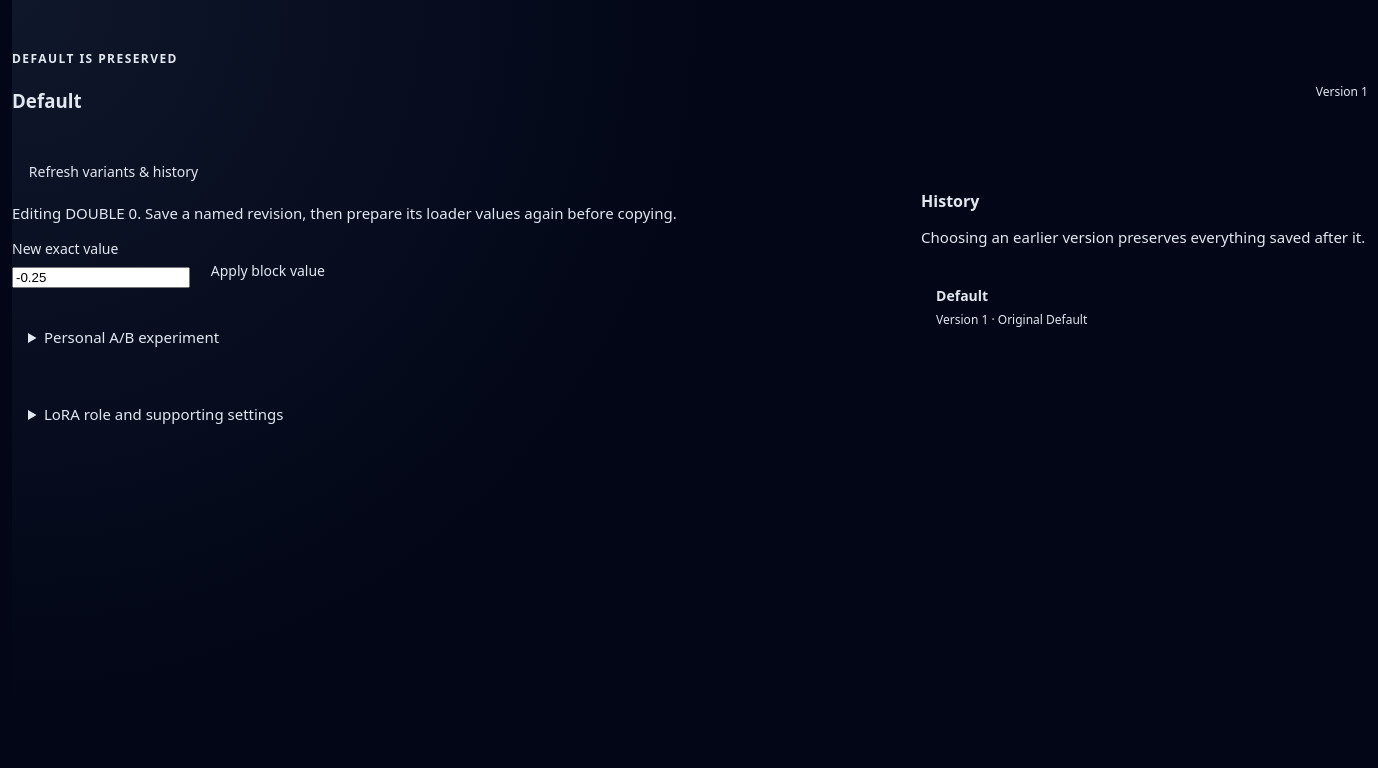
Scenario: version editor keyboard focus › also retains focus when equivalent numeric text does not remount the editor
Replace the text in the field labelled "New exact value" with "-0.2500": (101, 278) x1=12 y1=267 x2=190 y2=288
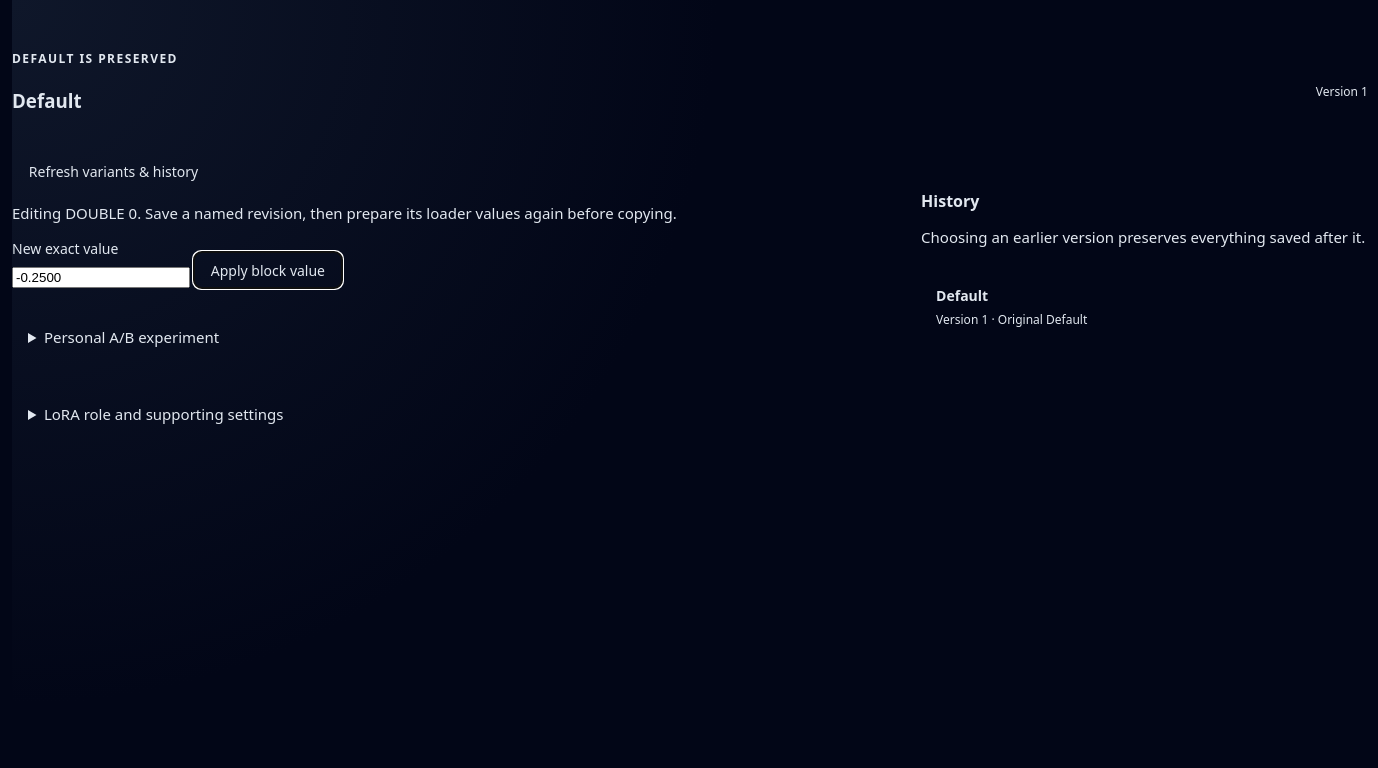
Click the button "Apply block value": (268, 270) x1=194 y1=252 x2=342 y2=288
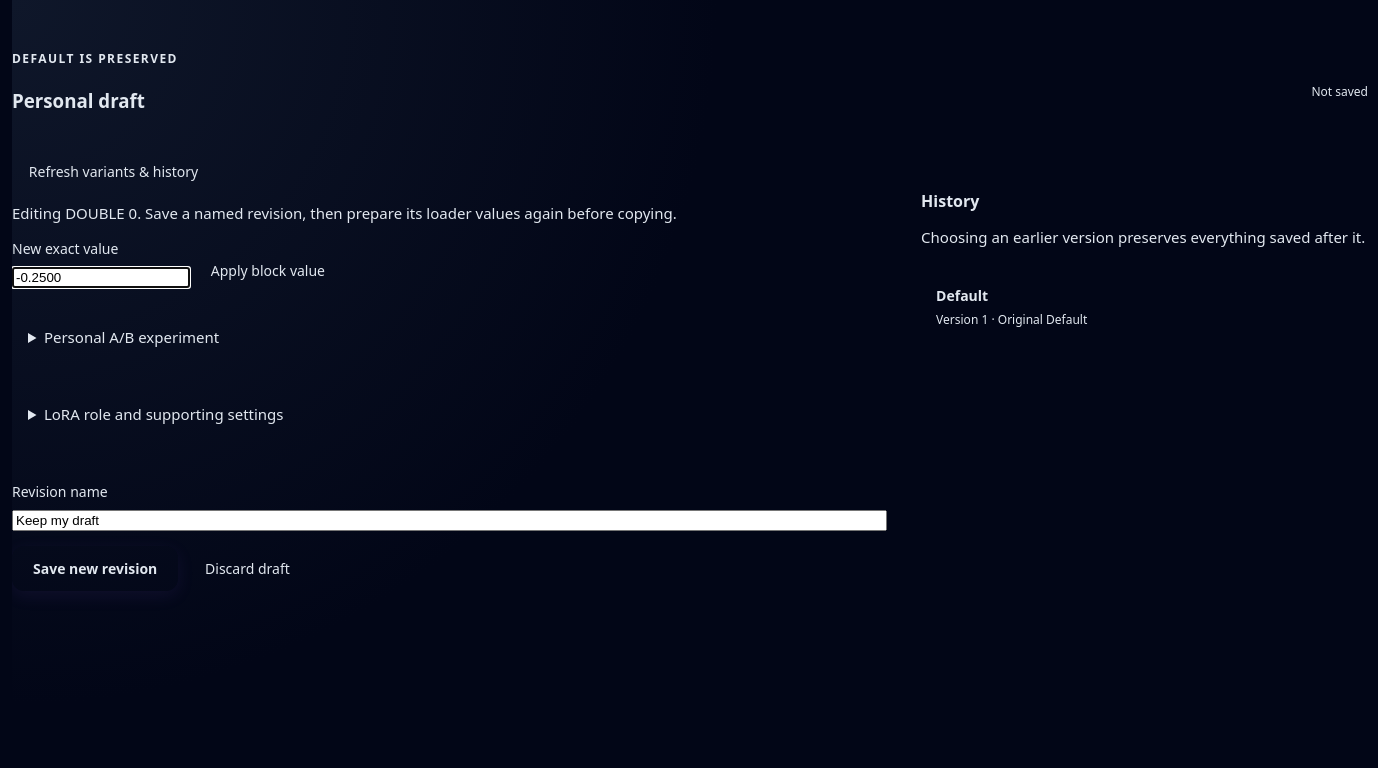
Result: the heading "Personal draft" is shown at x1=12 y1=88 x2=145 y2=113
